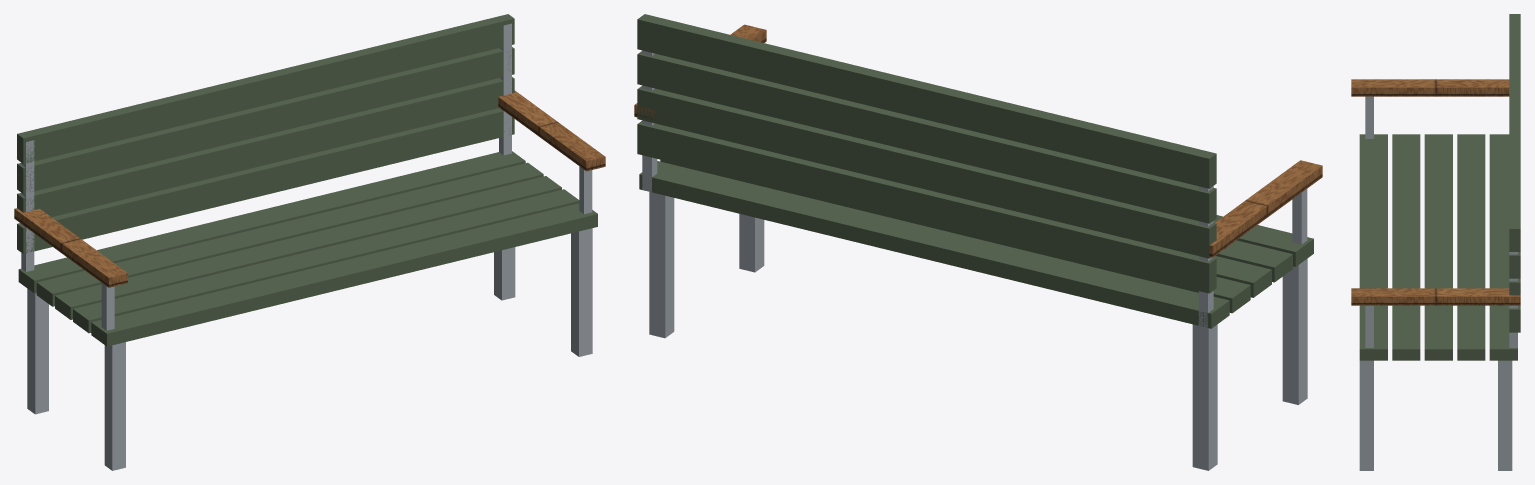
File: Kerti_kanape.obj
3 renders of one model, left to right at view 1: azimuth 30°, elevation 25°; view 2: azimuth 150°, elevation 25°; view 3: azimuth 270°, elevation 25°, orthographic. The views are drawn at different scales.
Bounding box in the file's own units: 1.82 × 0.955 × 0.6.
Materials: 3 (1 with a texture image).
